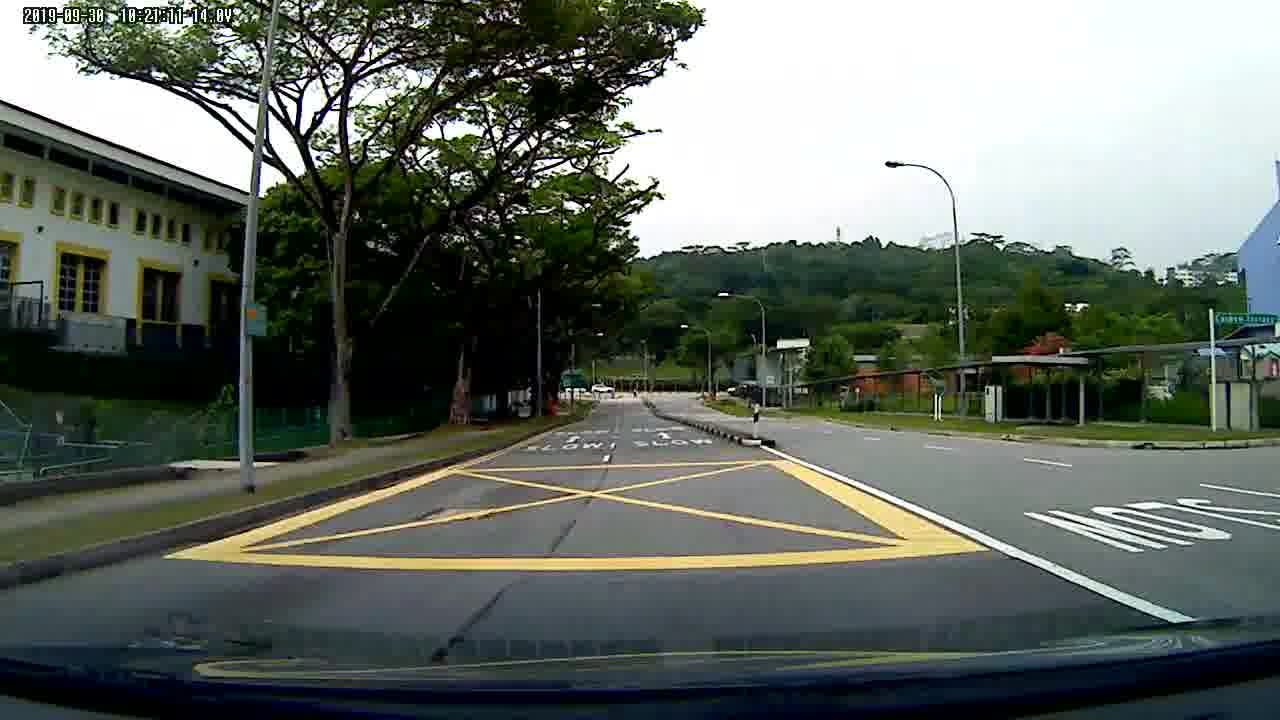car: (591, 381, 613, 396)
